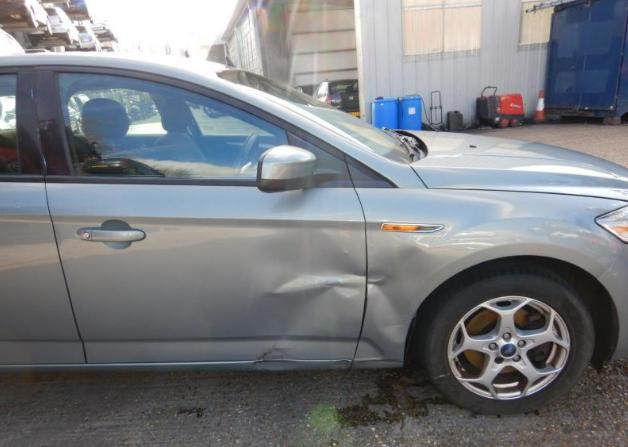Back-door: (0, 64, 86, 364)
Back-window: (0, 74, 20, 174)
Fender: (353, 187, 628, 369)
Front-bumper: (596, 244, 628, 362)
Front-door: (35, 65, 367, 363)
Front-wheel: (414, 261, 596, 416)
Front-window: (54, 72, 290, 179)
Headlight: (594, 204, 628, 243)
Hood: (386, 128, 628, 201)
Mirror: (257, 131, 353, 193)
Rocker-panel: (1, 359, 353, 372)
Roof: (1, 51, 240, 78)
Windshield: (217, 70, 419, 164)
